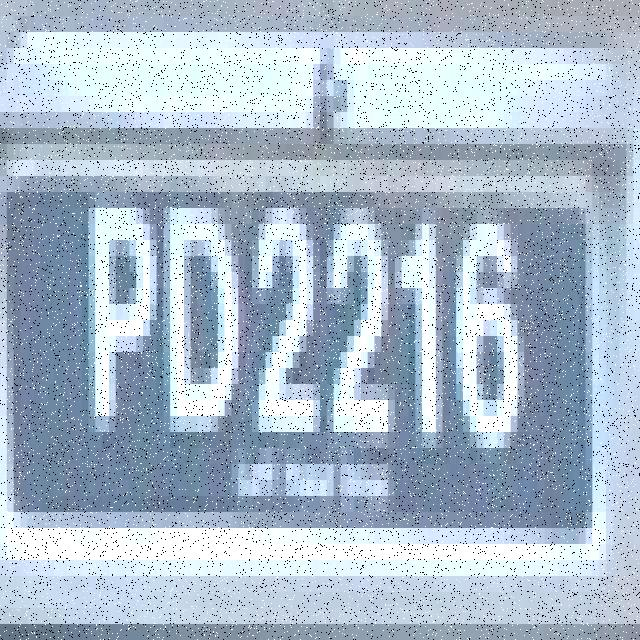licenseplate: (1, 102, 606, 610)
